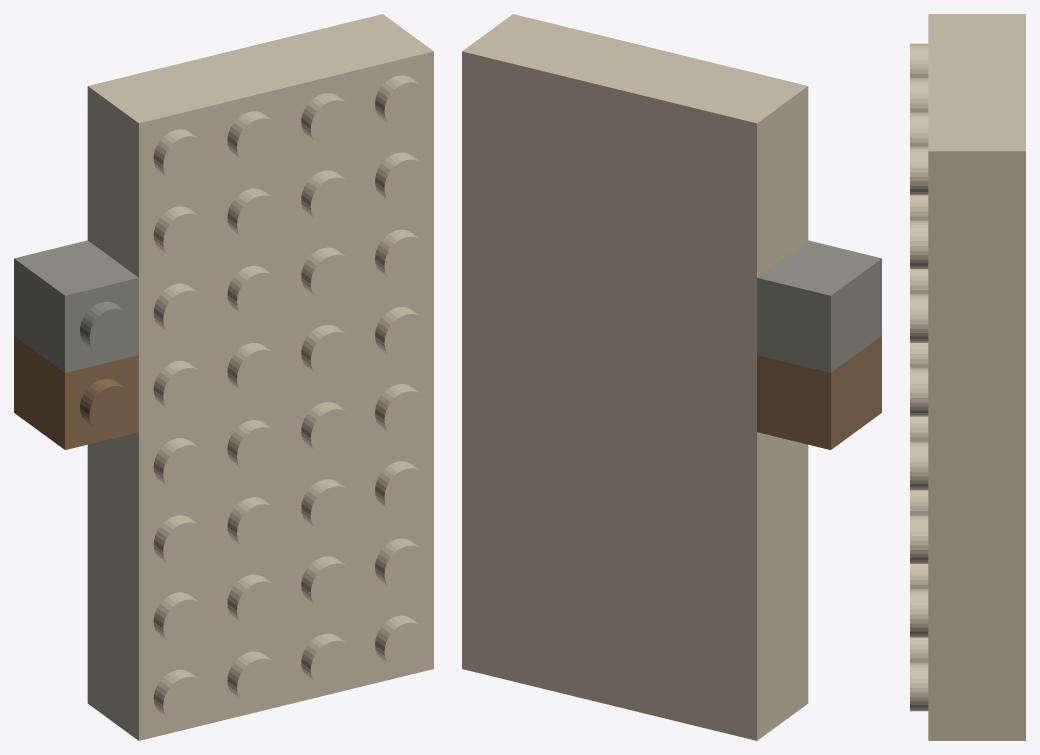
Rendered from current.glb.
3 renders of one model, left to right at view 1: azimuth 30°, elevation 25°; view 2: azimuth 150°, elevation 25°; view 3: azimuth 270°, elevation 25°, orthographic. The views are drawn at different scales.
Visible parts, largest first — view 1: world; view 2: world; view 3: world.
Boxes of the visible parts, bbox=[...] form: world: bbox=[14, 14, 433, 740]; world: bbox=[462, 14, 881, 740]; world: bbox=[910, 14, 1025, 740].
Bounding box in the file's own units: 40 × 64 × 11.4.
